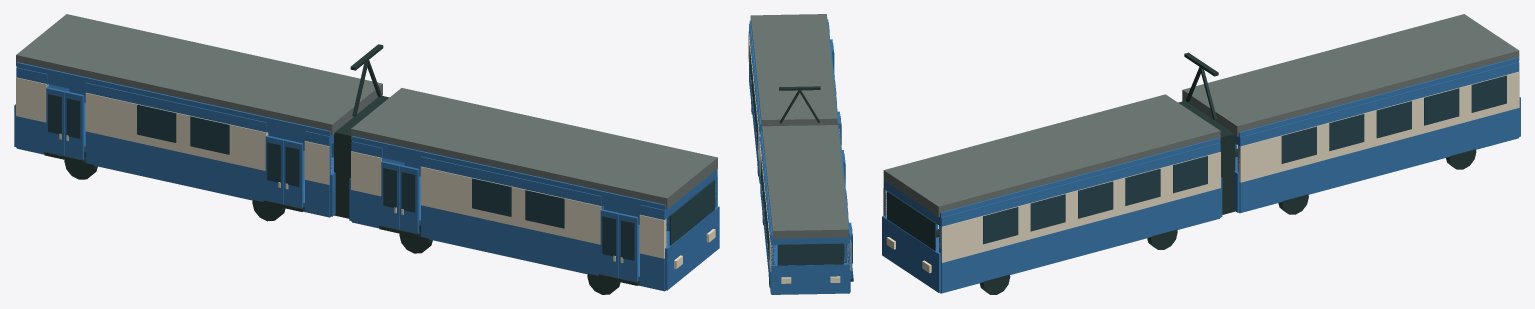
Rendered from tram-blue.glb.
The picture shows the model from 3 angles, left to right: view 1: azimuth 30°, elevation 25°; view 2: azimuth 150°, elevation 25°; view 3: azimuth 270°, elevation 25°; orthographic projection. The views are drawn at different scales.
Parts seen in each view (by area): view 1: Новый синий, Правая раздвижная дверь (×8); view 2: Новый синий, Правая раздвижная дверь; view 3: Новый синий.
Boxes of the visible parts, x1,y1,x2,y2 form: Новый синий: [14, 14, 719, 294]; Правая раздвижная дверь (×8): [46, 87, 638, 281]; Новый синий: [748, 14, 853, 294]; Правая раздвижная дверь: [850, 229, 852, 278]; Новый синий: [882, 14, 1520, 294].
Size of the model in its own units: 13.9 by 5 by 19.31.
